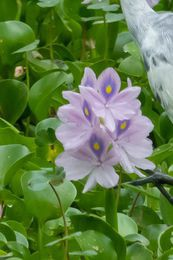water_hyacinth: (0, 19, 173, 260)
